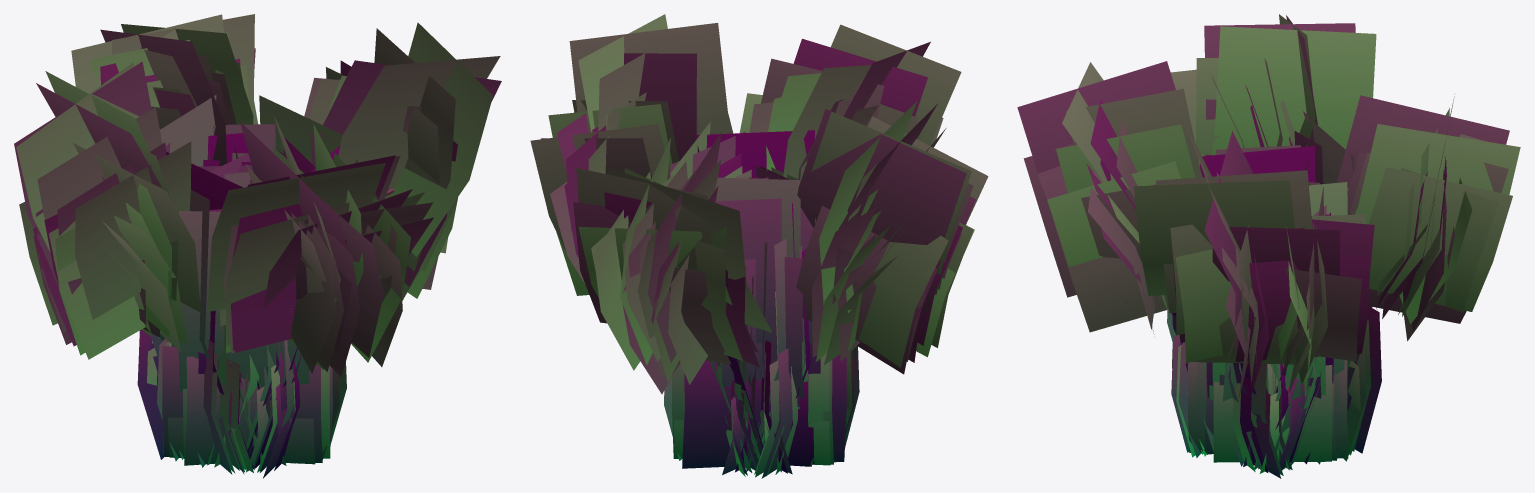
The model's file is crops_mesopotamia.glb.
3 views of the same model, side by side, from view 1: azimuth 30°, elevation 25°; view 2: azimuth 150°, elevation 25°; view 3: azimuth 270°, elevation 25° (orthographic). The views are drawn at different scales.
Visible parts, largest first — view 1: grapevine_mature_07_LOD0, grapevine_mature_02_LOD0, grapevine_mature_04_LOD0, grapevine_mature_03_LOD0, grapevine_mature_08_LOD0, grapevine_mature_05_LOD0, emmer_wheat_mature_02_LOD0, grapevine_mature_10_LOD0, grapevine_mature_01_LOD0, lentil_chickpea_mature_04_LOD0, lentil_chickpea_mature_03_LOD0, emmer_wheat_mature_04_LOD0 (+14 smaller); view 2: grapevine_mature_07_LOD0, grapevine_mature_02_LOD0, grapevine_mature_05_LOD0, grapevine_mature_01_LOD0, grapevine_mature_12_LOD0, lentil_chickpea_mature_01_LOD0, grapevine_mature_06_LOD0, grapevine_mature_09_LOD0, grapevine_mature_08_LOD0, grapevine_mature_11_LOD0, emmer_wheat_mature_11_LOD0, grapevine_mature_04_LOD0 (+15 smaller); view 3: grapevine_mature_07_LOD0, grapevine_mature_01_LOD0, grapevine_mature_02_LOD0, grapevine_mature_11_LOD0, grapevine_mature_12_LOD0, grapevine_mature_04_LOD0, grapevine_mature_08_LOD0, grapevine_mature_09_LOD0, emmer_wheat_mature_10_LOD0, grapevine_mature_06_LOD0, lentil_chickpea_mature_07_LOD0, lentil_chickpea_mature_05_LOD0 (+14 smaller).
Part boxes in pixels (x1,y1,x2,y2): grapevine_mature_07_LOD0: [14, 14, 500, 346]; grapevine_mature_02_LOD0: [16, 14, 501, 330]; grapevine_mature_04_LOD0: [73, 55, 457, 362]; grapevine_mature_03_LOD0: [49, 89, 457, 373]; grapevine_mature_08_LOD0: [37, 60, 360, 376]; grapevine_mature_05_LOD0: [19, 32, 439, 357]; emmer_wheat_mature_02_LOD0: [151, 133, 309, 394]; grapevine_mature_10_LOD0: [57, 58, 344, 371]; grapevine_mature_01_LOD0: [55, 48, 457, 355]; lentil_chickpea_mature_04_LOD0: [162, 339, 322, 474]; lentil_chickpea_mature_03_LOD0: [152, 340, 332, 473]; emmer_wheat_mature_04_LOD0: [160, 95, 342, 391]; grapevine_mature_07_LOD0: [569, 14, 966, 362]; grapevine_mature_02_LOD0: [576, 38, 971, 364]; grapevine_mature_05_LOD0: [607, 84, 948, 367]; grapevine_mature_01_LOD0: [573, 58, 974, 370]; grapevine_mature_12_LOD0: [556, 104, 925, 361]; lentil_chickpea_mature_01_LOD0: [682, 352, 852, 474]; grapevine_mature_06_LOD0: [548, 104, 962, 382]; grapevine_mature_09_LOD0: [622, 93, 937, 394]; grapevine_mature_08_LOD0: [530, 119, 973, 378]; grapevine_mature_11_LOD0: [550, 182, 940, 384]; emmer_wheat_mature_11_LOD0: [667, 131, 813, 396]; grapevine_mature_04_LOD0: [592, 97, 988, 361]; grapevine_mature_07_LOD0: [1017, 15, 1509, 343]; grapevine_mature_01_LOD0: [1056, 116, 1512, 392]; grapevine_mature_02_LOD0: [1065, 14, 1520, 356]; grapevine_mature_11_LOD0: [1053, 142, 1361, 393]; grapevine_mature_12_LOD0: [1235, 111, 1498, 400]; grapevine_mature_04_LOD0: [1047, 69, 1508, 381]; grapevine_mature_08_LOD0: [1023, 58, 1414, 384]; grapevine_mature_09_LOD0: [1081, 136, 1466, 400]; emmer_wheat_mature_10_LOD0: [1172, 121, 1354, 452]; grapevine_mature_06_LOD0: [1212, 105, 1435, 359]; lentil_chickpea_mature_07_LOD0: [1201, 365, 1332, 466]; lentil_chickpea_mature_05_LOD0: [1188, 360, 1366, 472].
Size of what is drawn, in the model's own units: 1.85 by 1.51 by 1.9.
